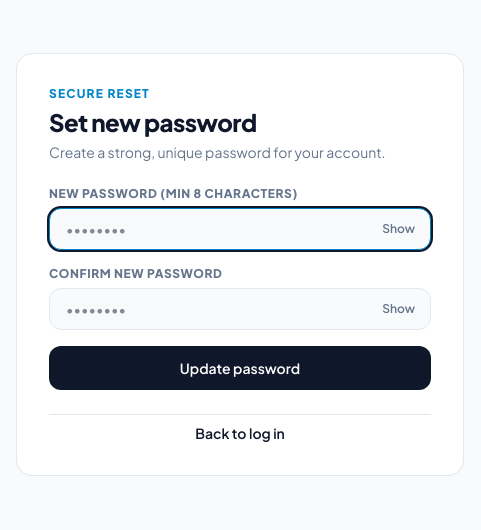
Password Reset Flows › mismatched passwords blocked
Expected: the heading "Set new password" is shown, [49,106,257,136]
Type "ValidPassword123" into the password field labelled "New Password (min 8 characters)" at (240, 228), box [49,208,431,250]
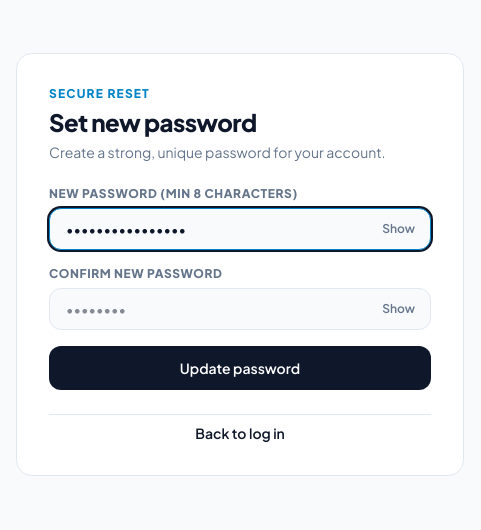
Type "DifferentPassword456" into the password field labelled "Confirm New Password" at (240, 308), box [49,288,431,330]
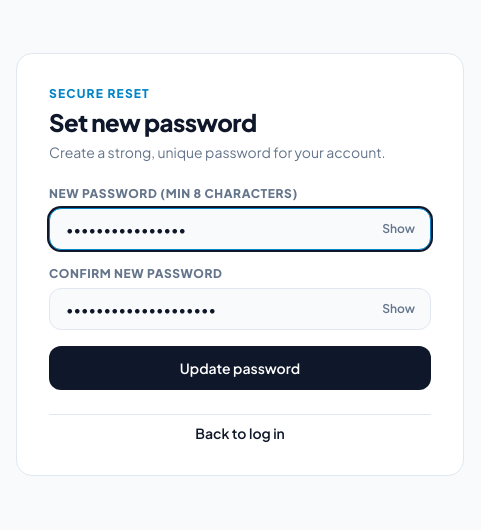
Click the button "Update password" at (240, 368), box [49,346,431,390]
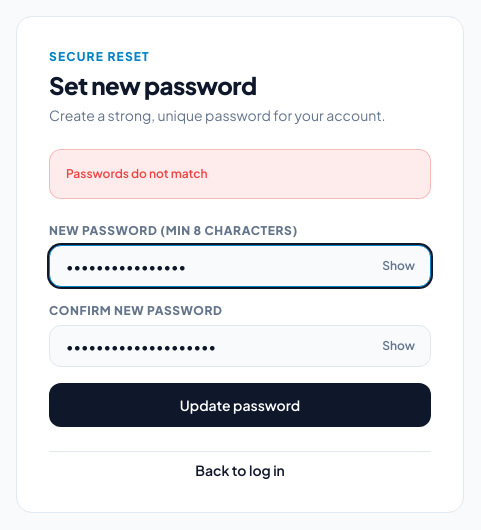
Now the text "Passwords do not match" is shown, box [49,148,431,198]
